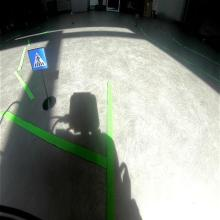crosswalk: (28, 47, 49, 71)
